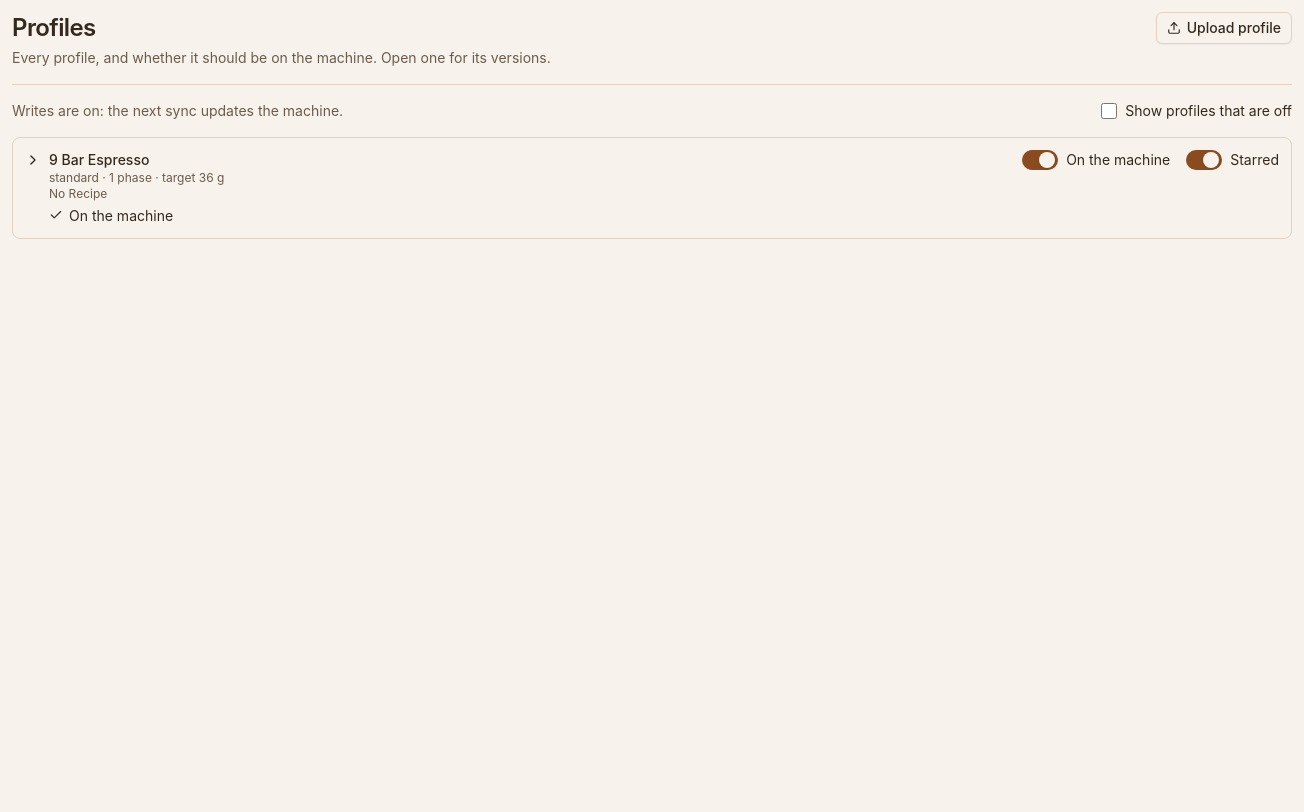
Test: Rename, in an open profile › sends one request however fast Rename is pressed
This screenshot has width=1304, height=812.
Click the button with test id "profile-toggle" at (99, 160), box [25,150,1006,226]
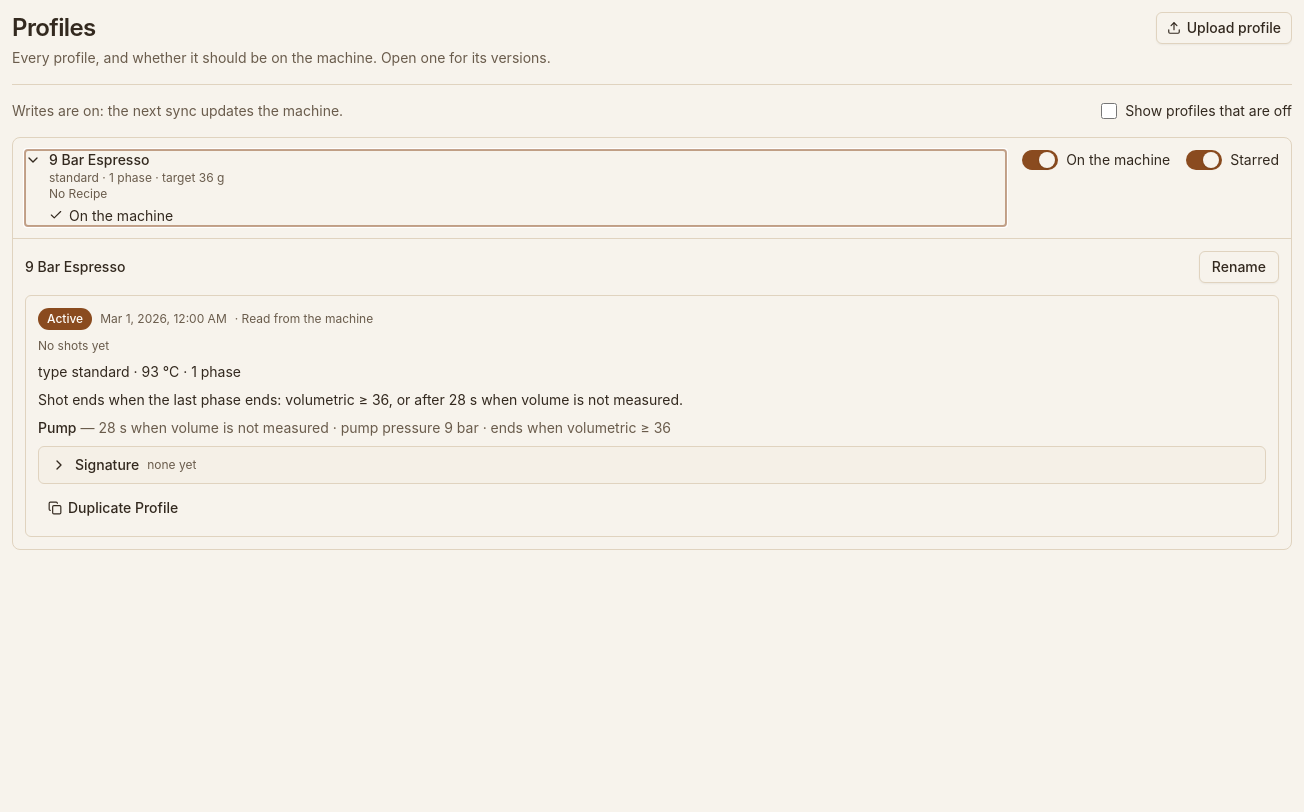
Click the button with test id "rename-open" at (1239, 267), box [1199,251,1279,283]
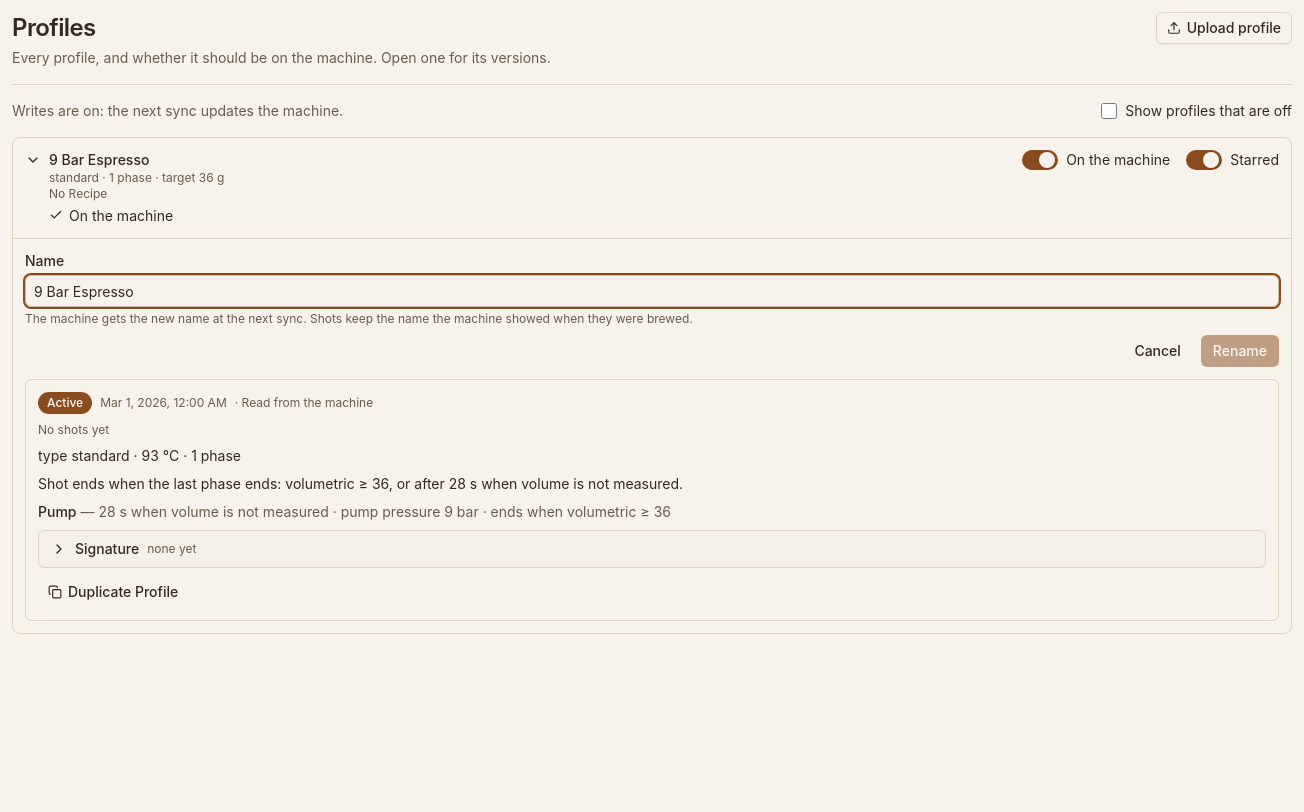
Replace the text in the field labelled "Name" with "Quick" at (652, 291), box [25,275,1279,307]
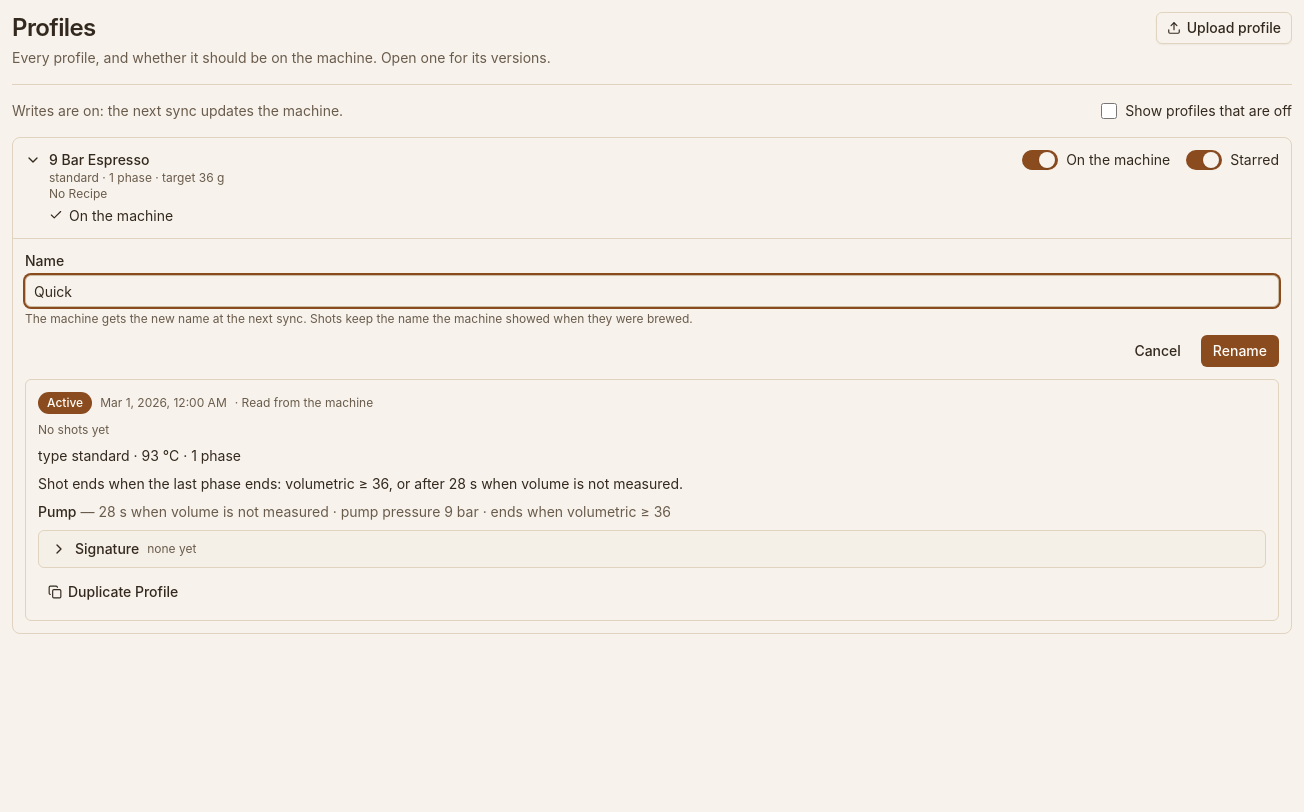
Double-click the button with test id "rename-submit" at (1240, 351), box [1201,335,1279,367]
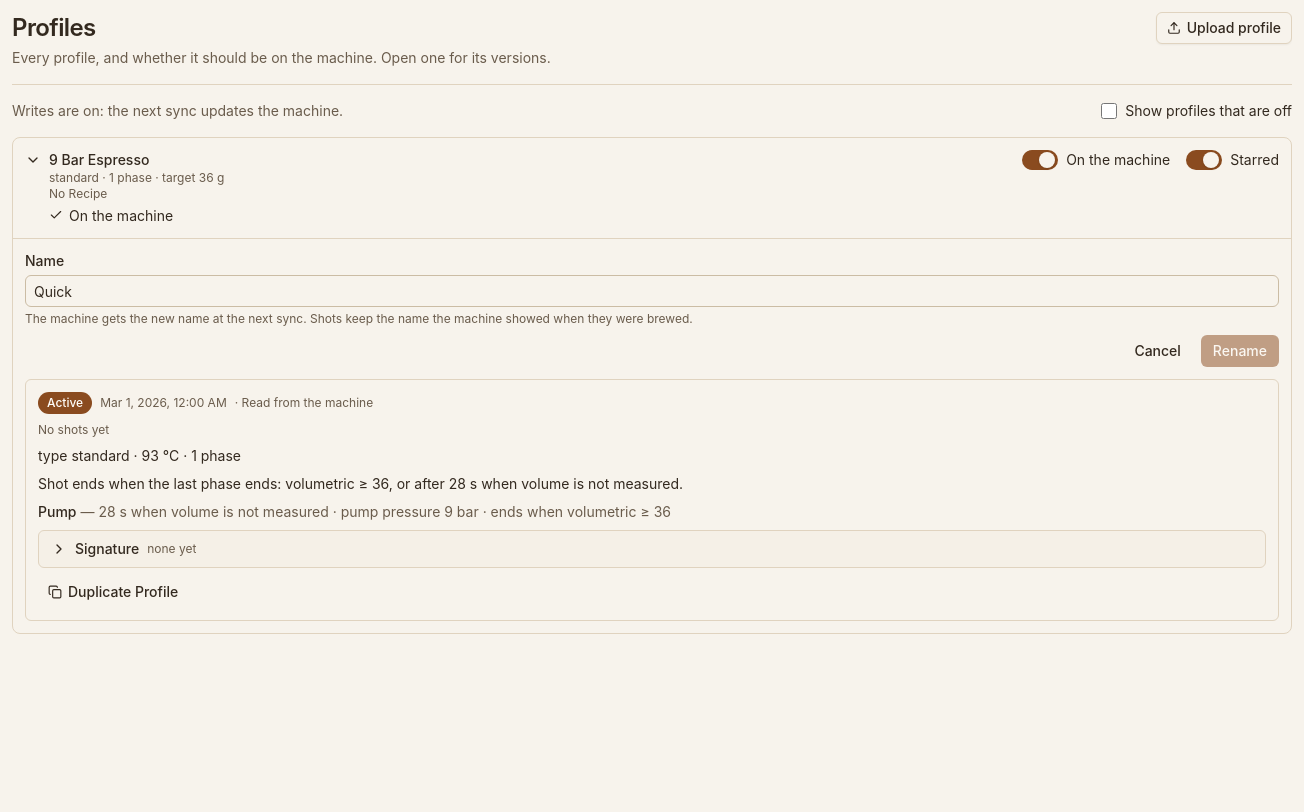
Press Enter
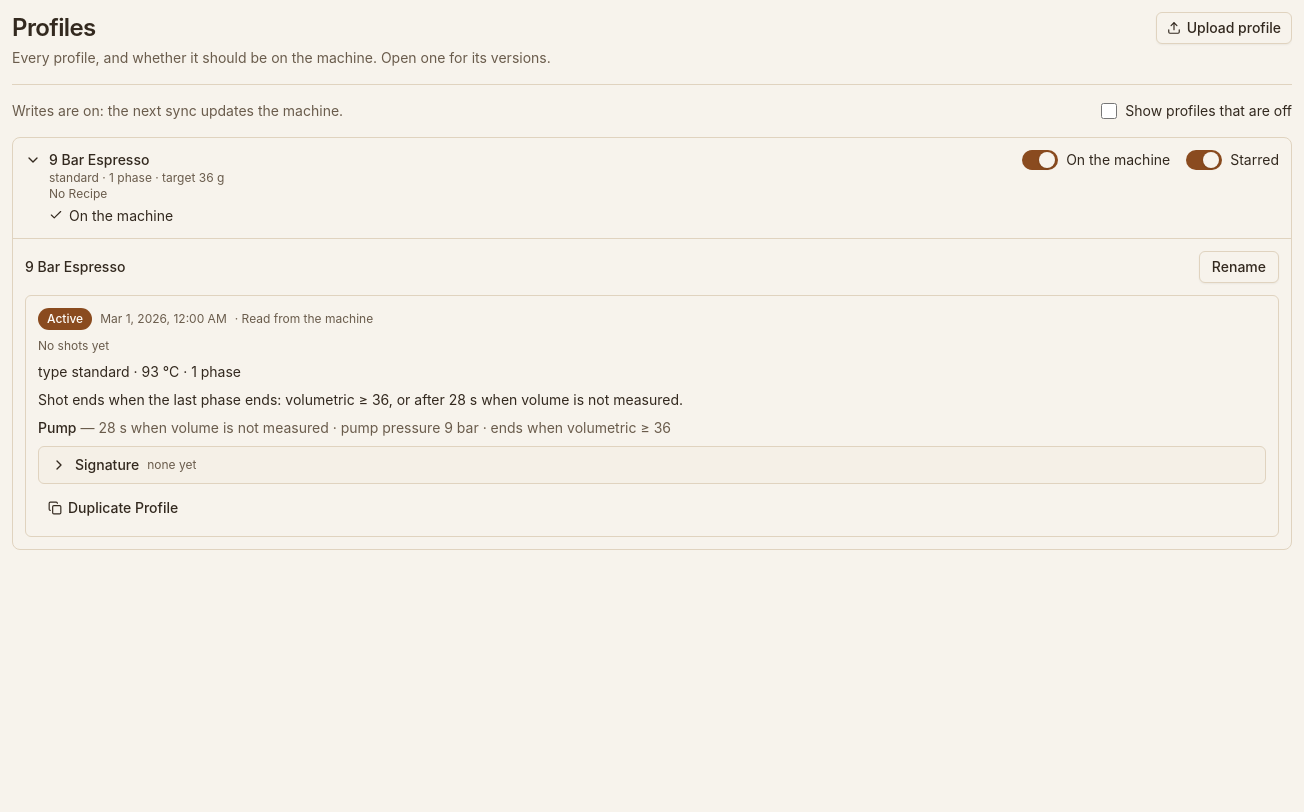
Result: the form with test id "rename-form" is gone
